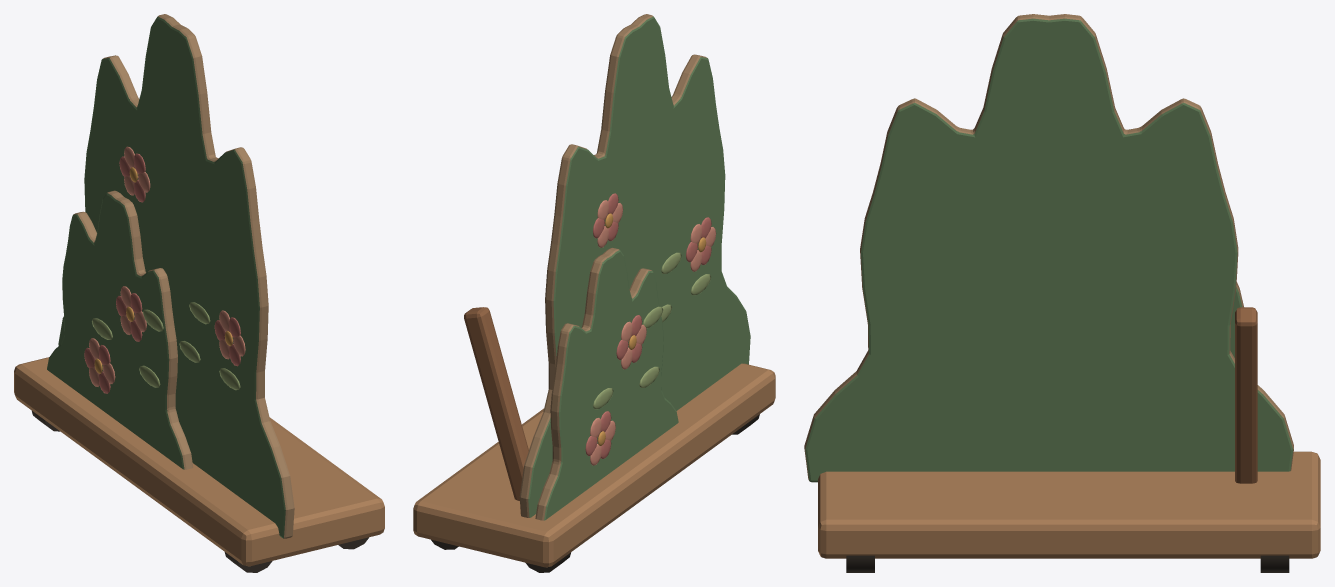
File: SM_Menu_GardenWagon.fbx
3 views of the same model, side by side, from view 1: azimuth 30°, elevation 25°; view 2: azimuth 150°, elevation 25°; view 3: azimuth 270°, elevation 25° (orthographic). The views are drawn at different scales.
Visible parts, largest first — view 1: SM_Menu_GardenWagon; view 2: SM_Menu_GardenWagon; view 3: SM_Menu_GardenWagon.
Part boxes in pixels (<box>): SM_Menu_GardenWagon: <box>14,14,384,572</box>; SM_Menu_GardenWagon: <box>413,14,775,572</box>; SM_Menu_GardenWagon: <box>804,14,1320,572</box>.
Bounding box in the file's own units: 62 × 181 × 198.
